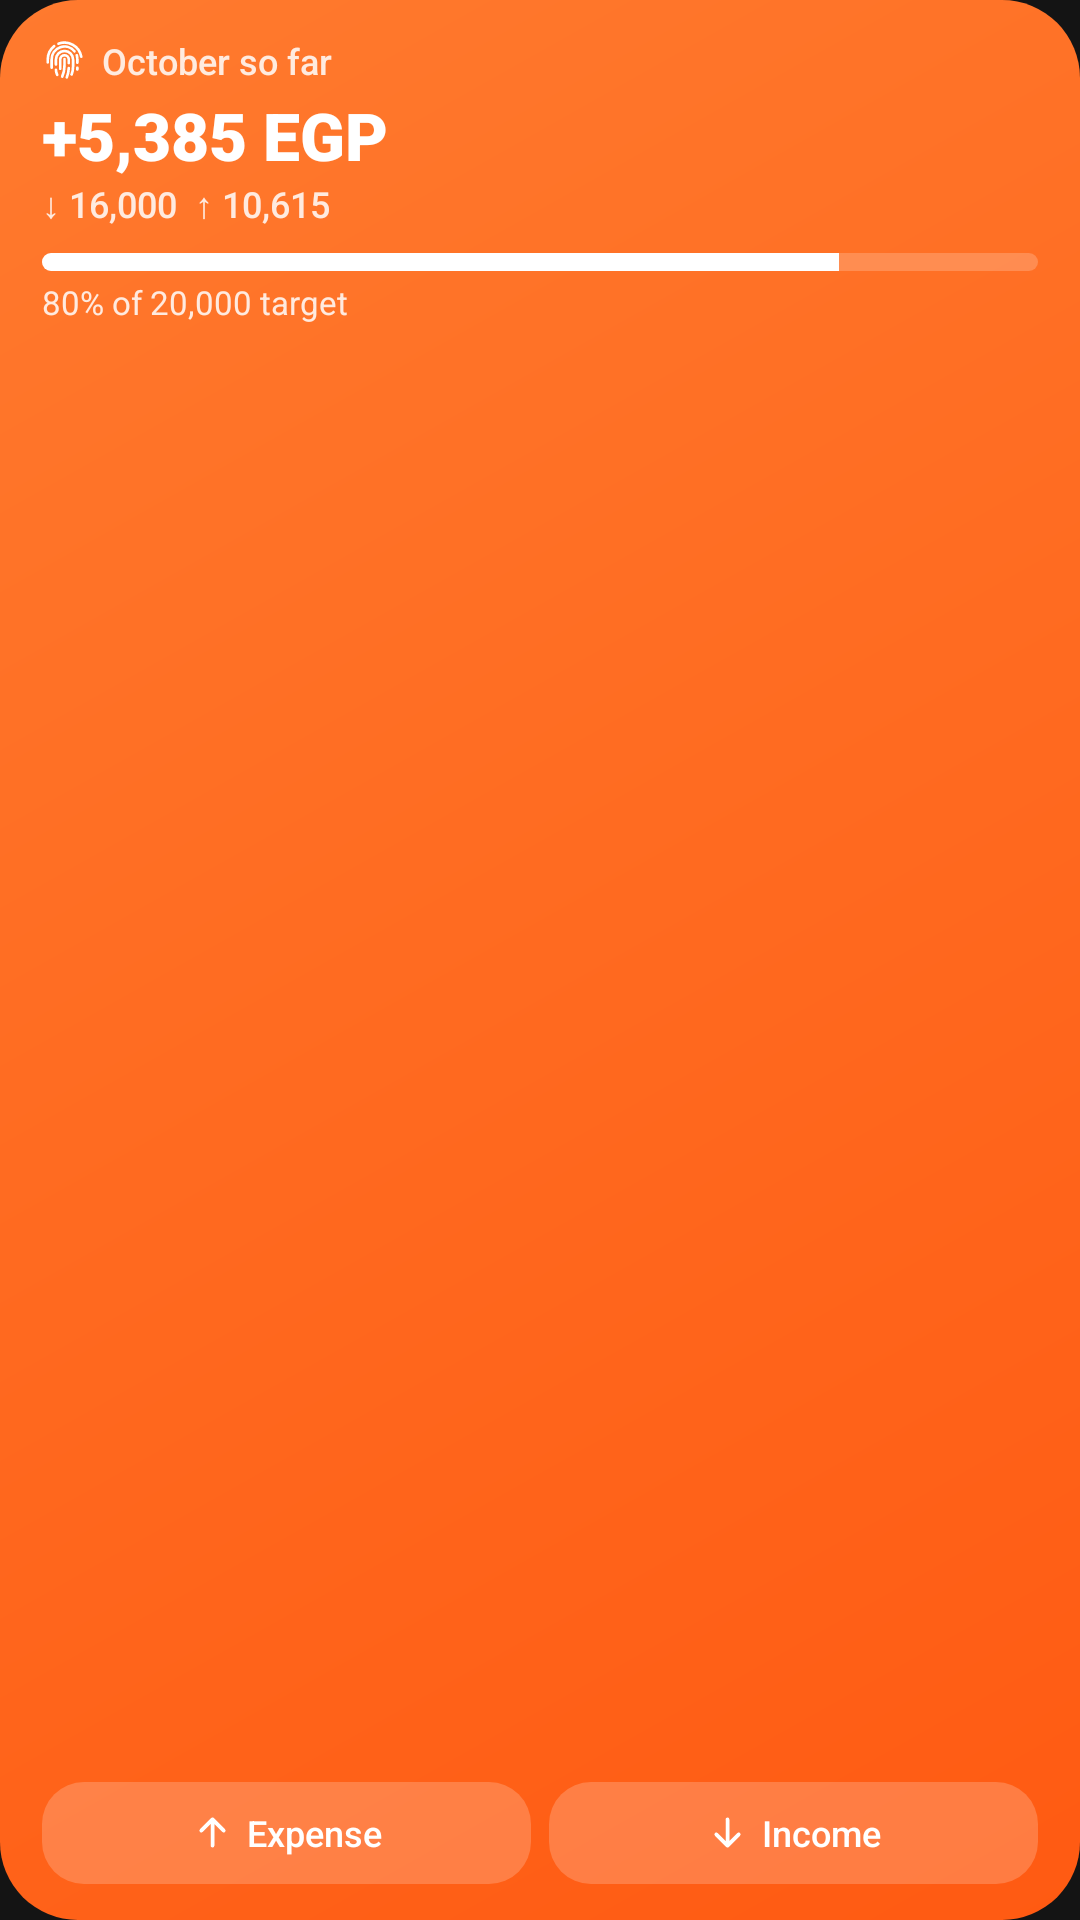

Icon bounding boxes for this 1080px×1920px phone screenshot, format (x1, y1, x2, y2):
down hero: (714, 1817, 741, 1848)
up hero: (199, 1817, 226, 1848)
